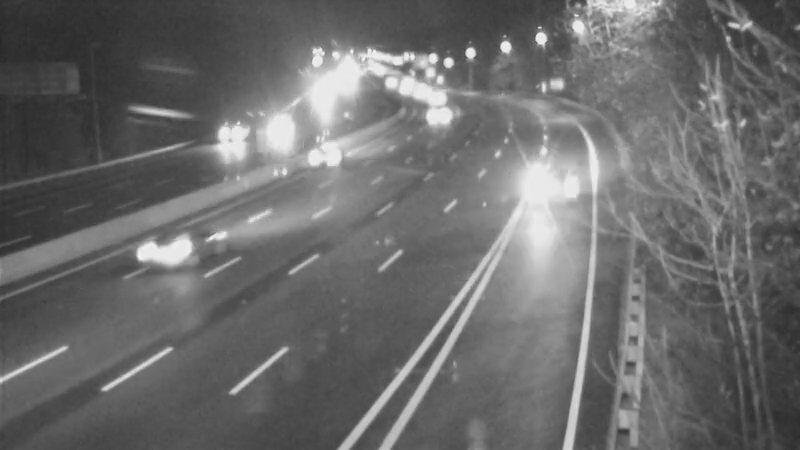vehicle: (513, 151, 593, 231), (283, 118, 363, 198), (124, 215, 204, 295), (362, 58, 412, 108), (394, 67, 444, 117), (409, 70, 459, 120), (409, 90, 459, 140), (224, 109, 274, 159), (262, 106, 312, 156)
